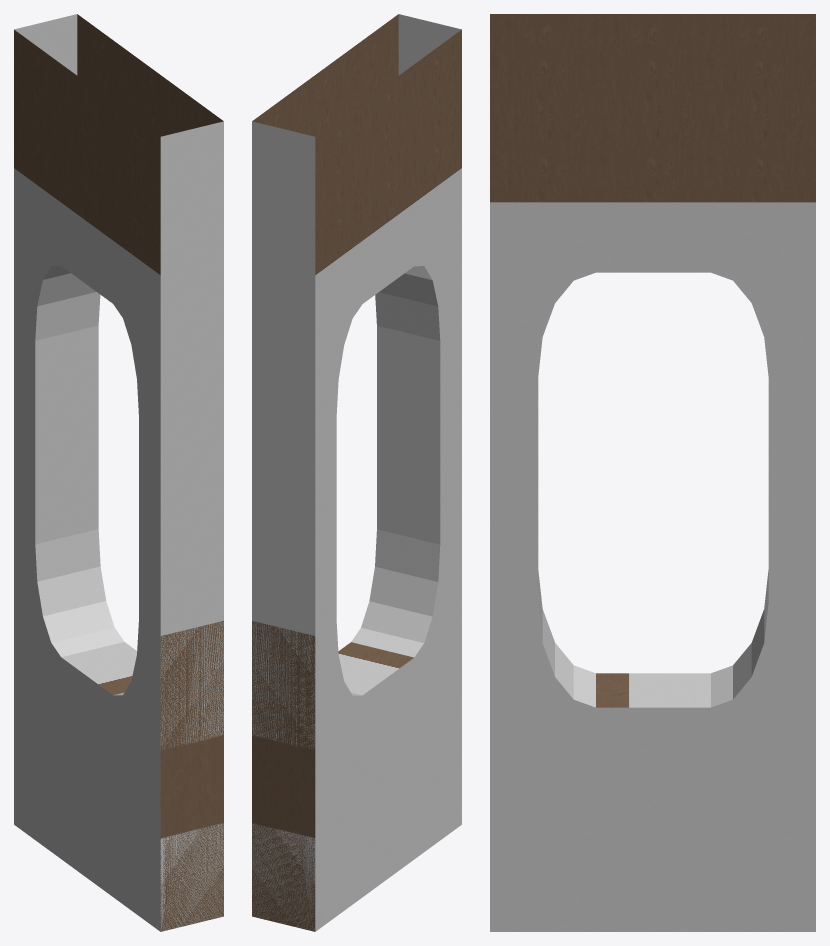
Rendered from Decor_LightPillar.fbx.
The picture shows the model from 3 angles, left to right: view 1: azimuth 30°, elevation 25°; view 2: azimuth 150°, elevation 25°; view 3: azimuth 270°, elevation 25°; orthographic projection. The views are drawn at different scales.
Parts seen in each view (by area): view 1: Decor_Lightpillar; view 2: Decor_Lightpillar; view 3: Decor_Lightpillar.
Boxes of the visible parts, box(x1,y1,x2,y2) form: Decor_Lightpillar: box(14, 14, 223, 931); Decor_Lightpillar: box(252, 14, 461, 931); Decor_Lightpillar: box(490, 14, 815, 931).
Size of the model in its own units: 25 by 300 by 100.
